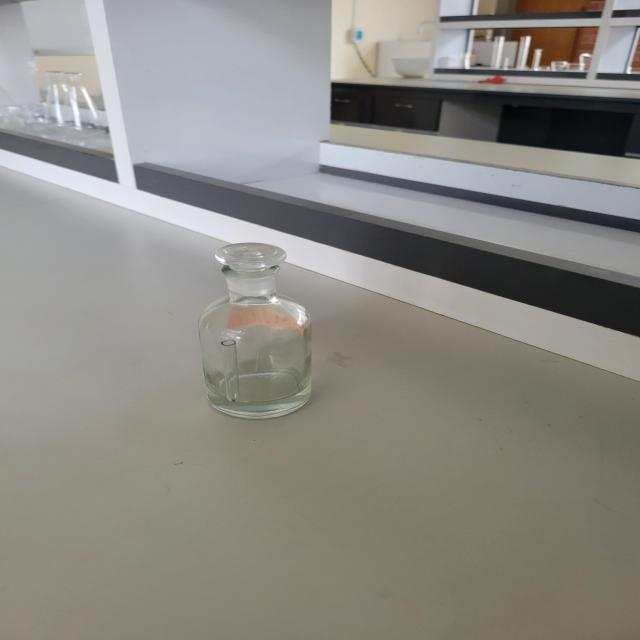Reagent_Bottle: (144, 211, 335, 450)
